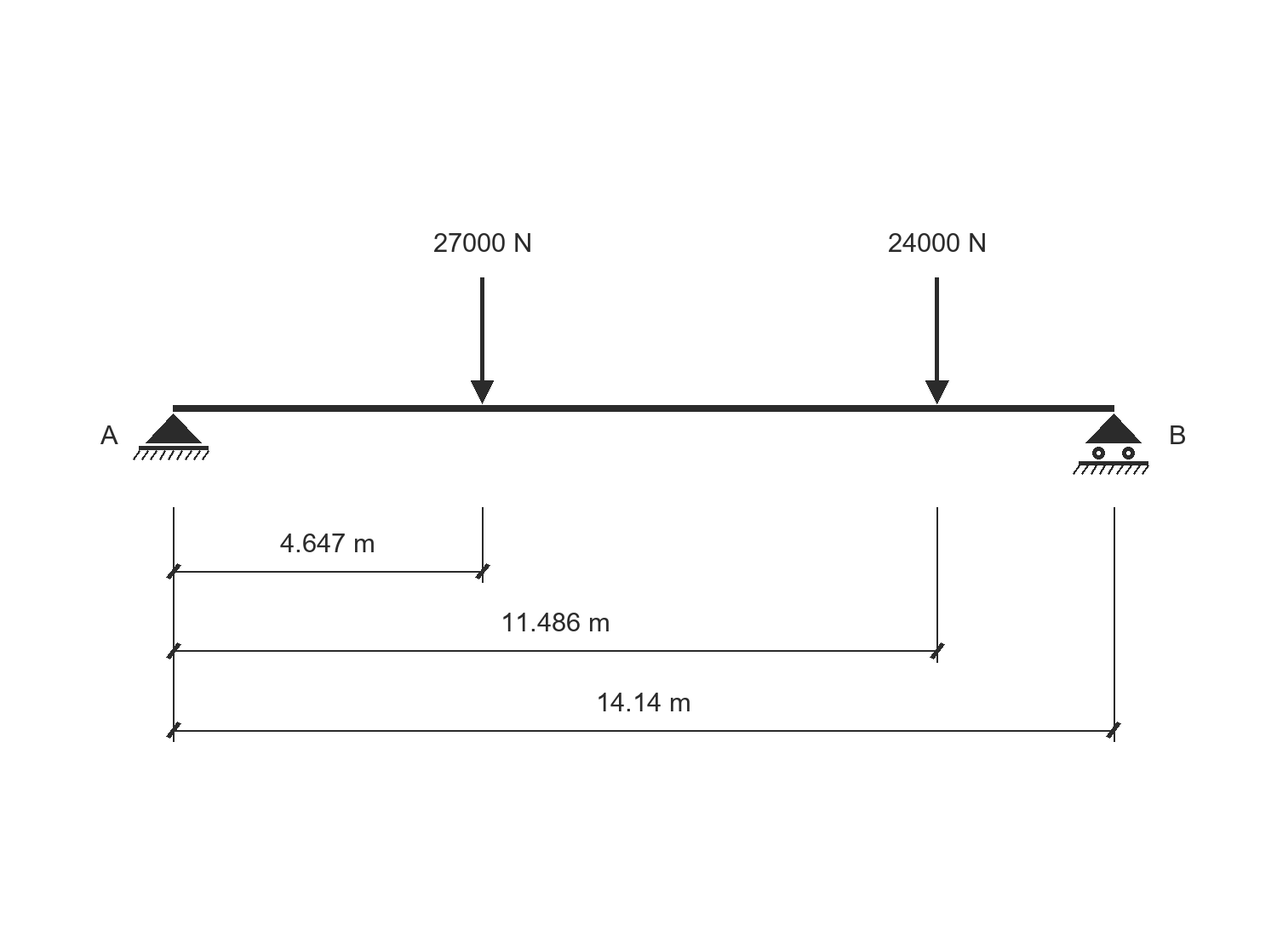pin_support: (133, 414, 209, 460)
point_load: (925, 277, 949, 404), (471, 277, 494, 404)
roller_support: (1073, 414, 1149, 475)
